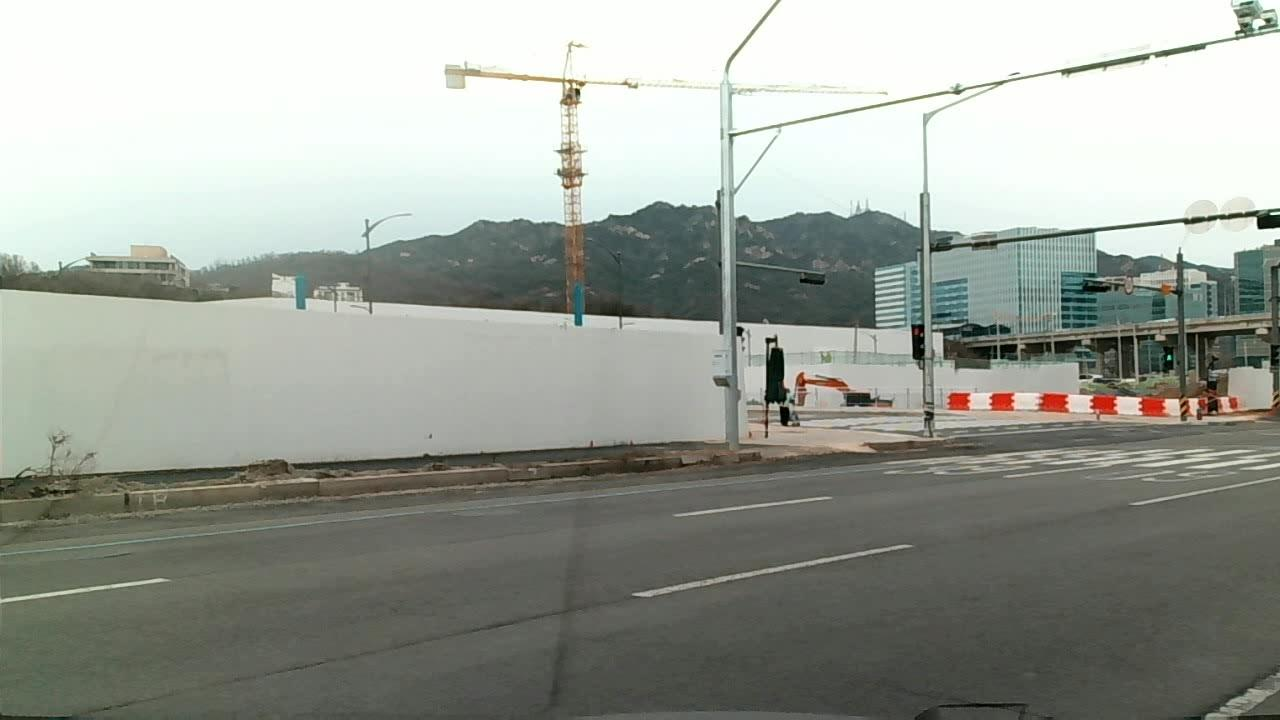hcrack: (244, 643, 367, 678), (370, 617, 501, 649), (511, 596, 628, 623), (70, 695, 142, 720)
